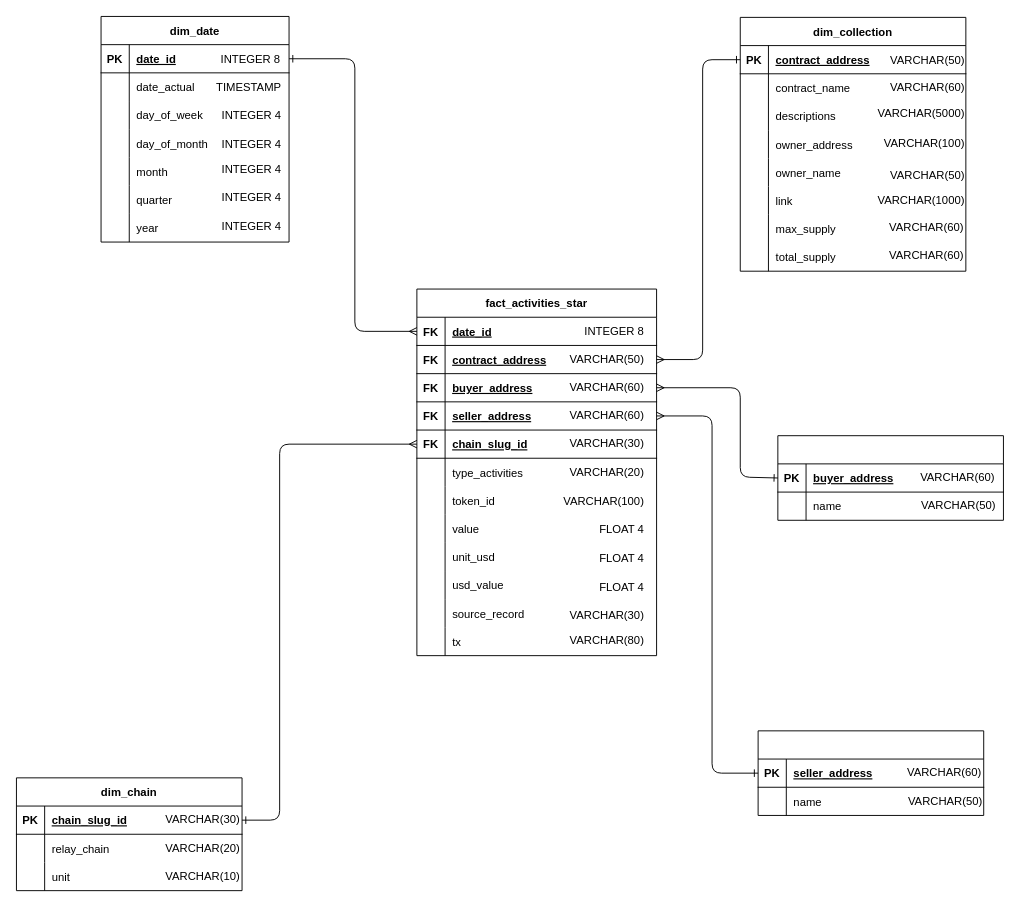
Some shapes in this 1020 by 907 pixel diagram are drawn without their labels. Each missing label, with the box of its shape:
dim_buyer: (777, 435, 1003, 520)
dim_seller: (757, 730, 984, 815)
